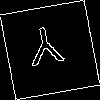Y: (24, 24, 67, 76)
